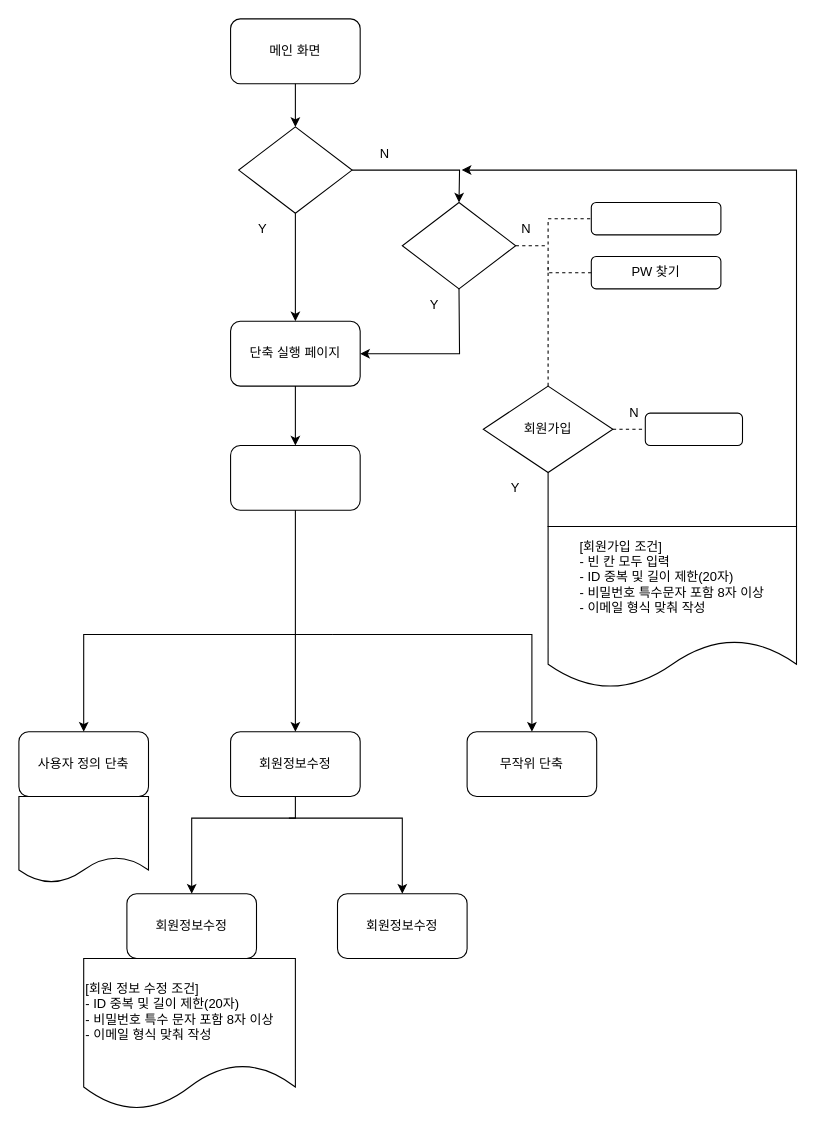
Some shapes in this 824 by 1129 pixel diagram are drawn without their labels. Here are the shapes that lost their labels. From the top down, the centre of each, then its label:
At (295,169): "회원 유/무".
At (655,218): "ID 찾기".
At (458,245): "로그인 화면".
At (693,429): "메인 화면으로".
At (295,477): "단축할 URL 입력".
At (83,839): "미리 단축한 데이터와 중복 X".
